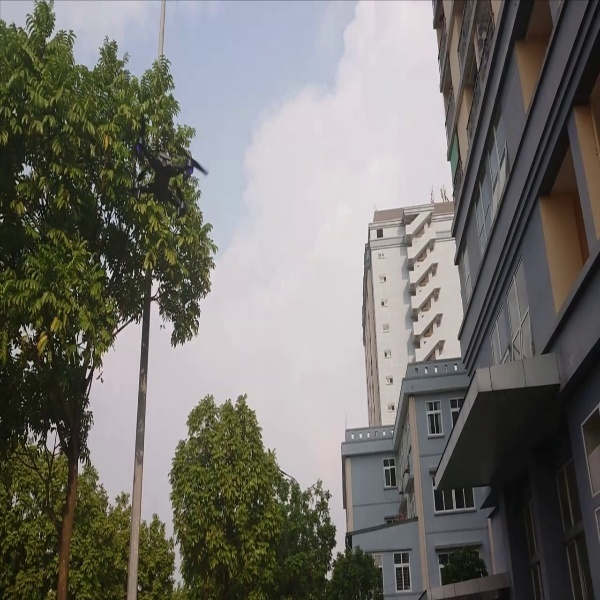drone: (119, 133, 212, 214)
